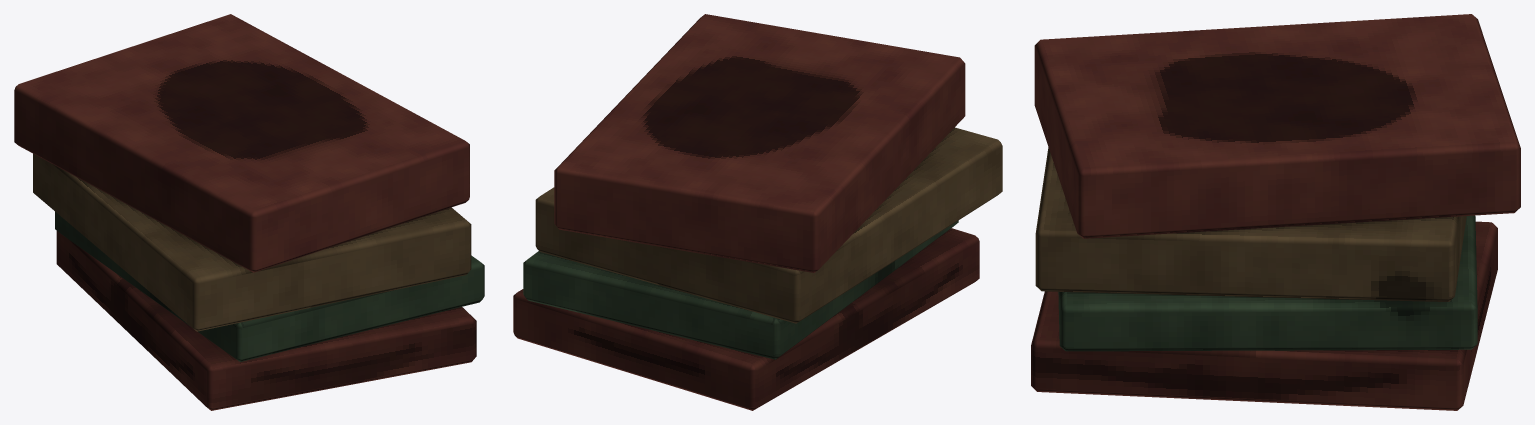
The model's file is book_stack.glb.
3 renders of one model, left to right at view 1: azimuth 30°, elevation 25°; view 2: azimuth 150°, elevation 25°; view 3: azimuth 270°, elevation 25°, orthographic. The views are drawn at different scales.
Visible parts, largest first — view 1: book_stack; view 2: book_stack; view 3: book_stack.
Part boxes in pixels (x1,y1,x2,y2): book_stack: (14,14,484,410); book_stack: (513,14,1002,410); book_stack: (1031,14,1520,410).
Bounding box in the file's own units: 0.1973 × 0.1247 × 0.2388.
Materials: 1 (1 with a texture image).
